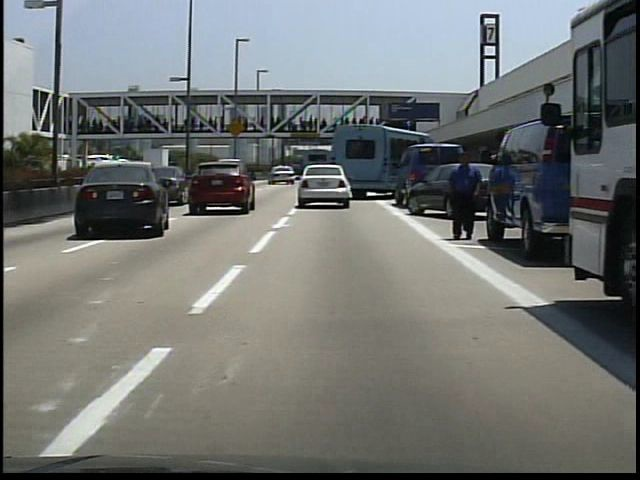person: (443, 148, 491, 246)
